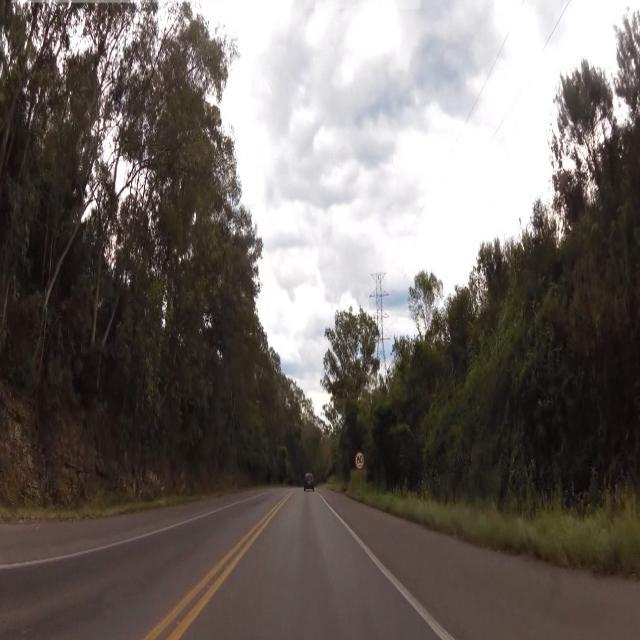R-19: (356, 451, 364, 469)
